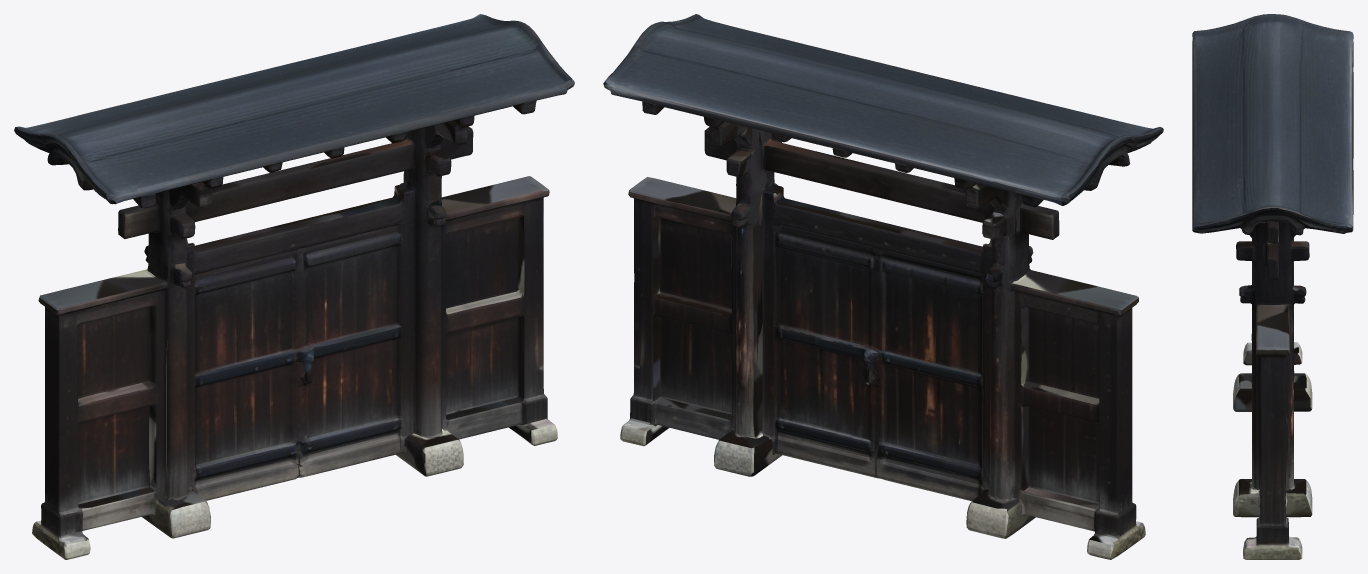
Rendered from traveler_env_coast_garrison_gate_00001_.glb.
3 views of the same model, side by side, from view 1: azimuth 30°, elevation 25°; view 2: azimuth 150°, elevation 25°; view 3: azimuth 270°, elevation 25° (orthographic). The views are drawn at different scales.
Parts seen in each view (by area): view 1: temp_mesh.ply; view 2: temp_mesh.ply; view 3: temp_mesh.ply.
Part boxes in pixels (bbox=[...]): temp_mesh.ply: bbox=[14, 14, 574, 559]; temp_mesh.ply: bbox=[603, 14, 1163, 559]; temp_mesh.ply: bbox=[1192, 14, 1353, 559].
Bounding box in the file's own units: 1.98 × 1.56 × 0.654.
Materials: 1 (1 with a texture image).
